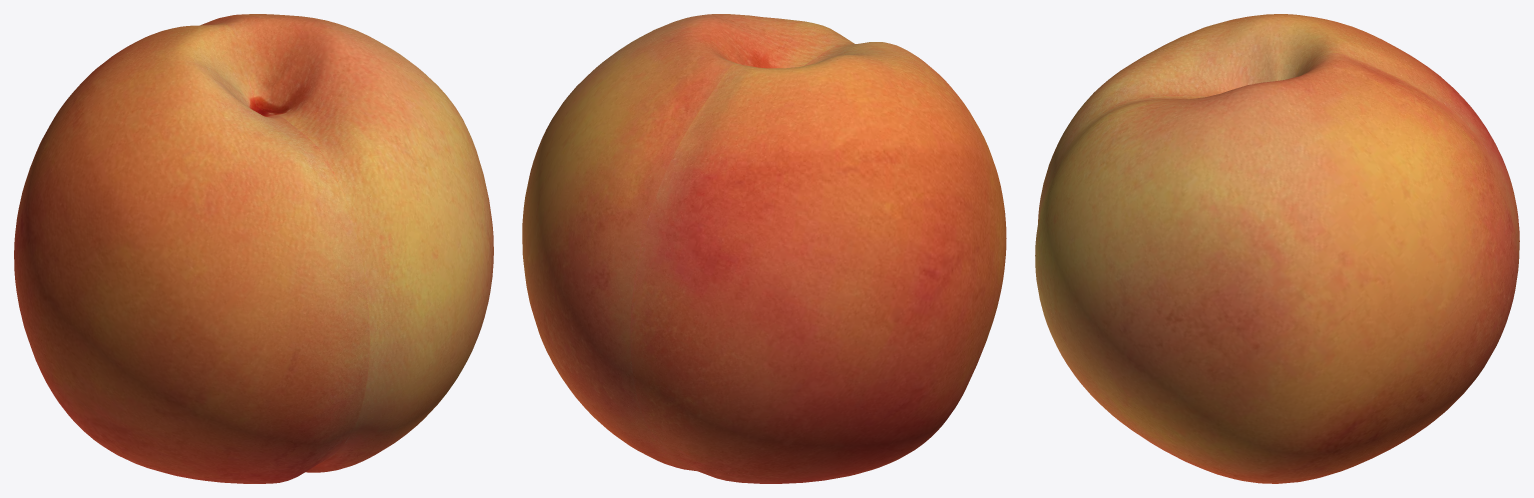
File: peach.glb
3 renders of one model, left to right at view 1: azimuth 30°, elevation 25°; view 2: azimuth 150°, elevation 25°; view 3: azimuth 270°, elevation 25°, orthographic. The views are drawn at different scales.
Visible parts, largest first — view 1: peach whole; view 2: peach whole; view 3: peach whole.
Part boxes in pixels (bbox=[...]): peach whole: bbox=[14, 14, 493, 483]; peach whole: bbox=[522, 14, 1006, 483]; peach whole: bbox=[1035, 14, 1519, 483].
Size of the model in its own units: 2.69 by 2.57 by 2.73.
1 material, 1 textured.
